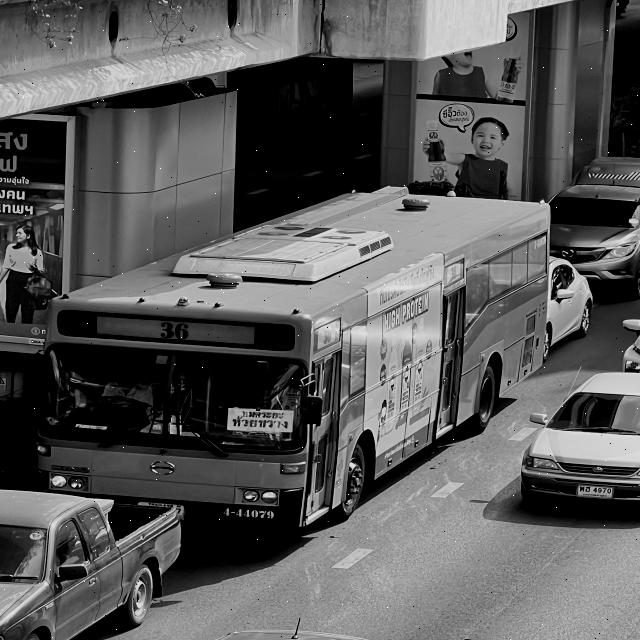BMTA-bus: (35, 186, 552, 530)
Bus Line Number: (148, 316, 200, 346)
Bus Side Number: (219, 503, 280, 522)
Destination Sign: (228, 408, 296, 434)
